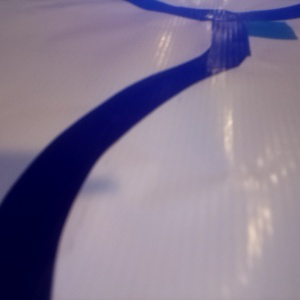bottom_right: (212, 10, 300, 56)
